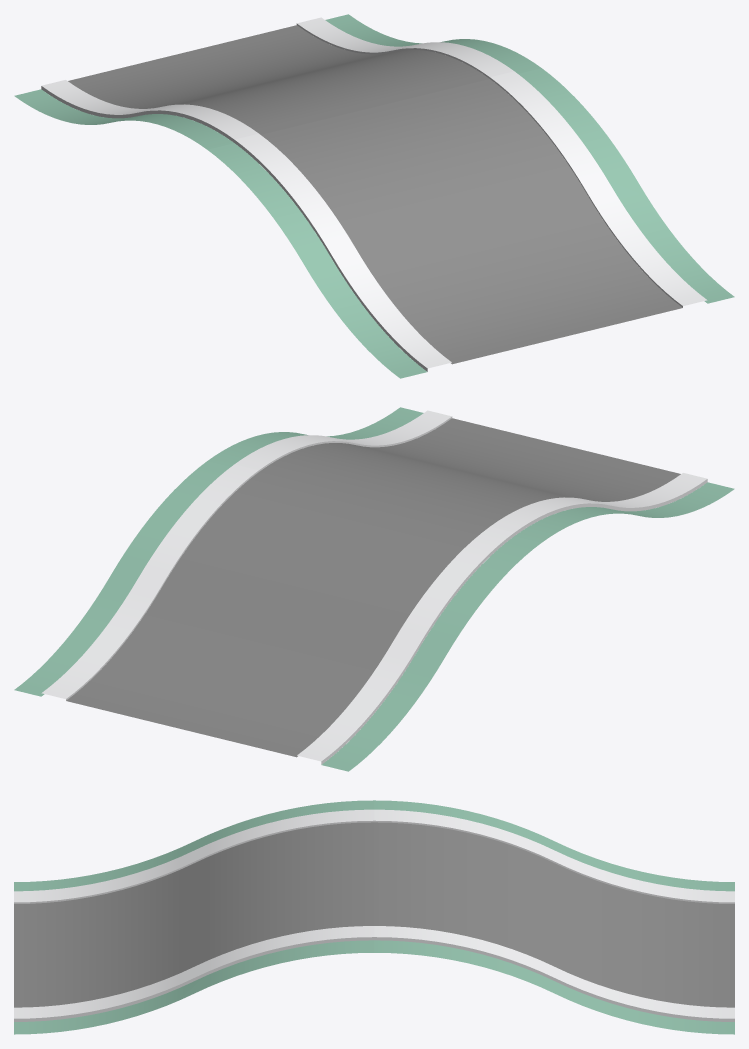
File: roadStraightLongBump.glb
3 views of the same model, one above another, from view 1: azimuth 30°, elevation 25°; view 2: azimuth 150°, elevation 25°; view 3: azimuth 270°, elevation 25° (orthographic). The views are drawn at different scales.
Visible parts, largest first — view 1: roadStraightLongBump(Clone); view 2: roadStraightLongBump(Clone); view 3: roadStraightLongBump(Clone).
Boxes of the visible parts, x1,y1,x2,y2 form: roadStraightLongBump(Clone): [14, 14, 734, 378]; roadStraightLongBump(Clone): [14, 407, 734, 771]; roadStraightLongBump(Clone): [14, 800, 734, 1034].
Size of the model in its own units: 1 by 0.26 by 2.
